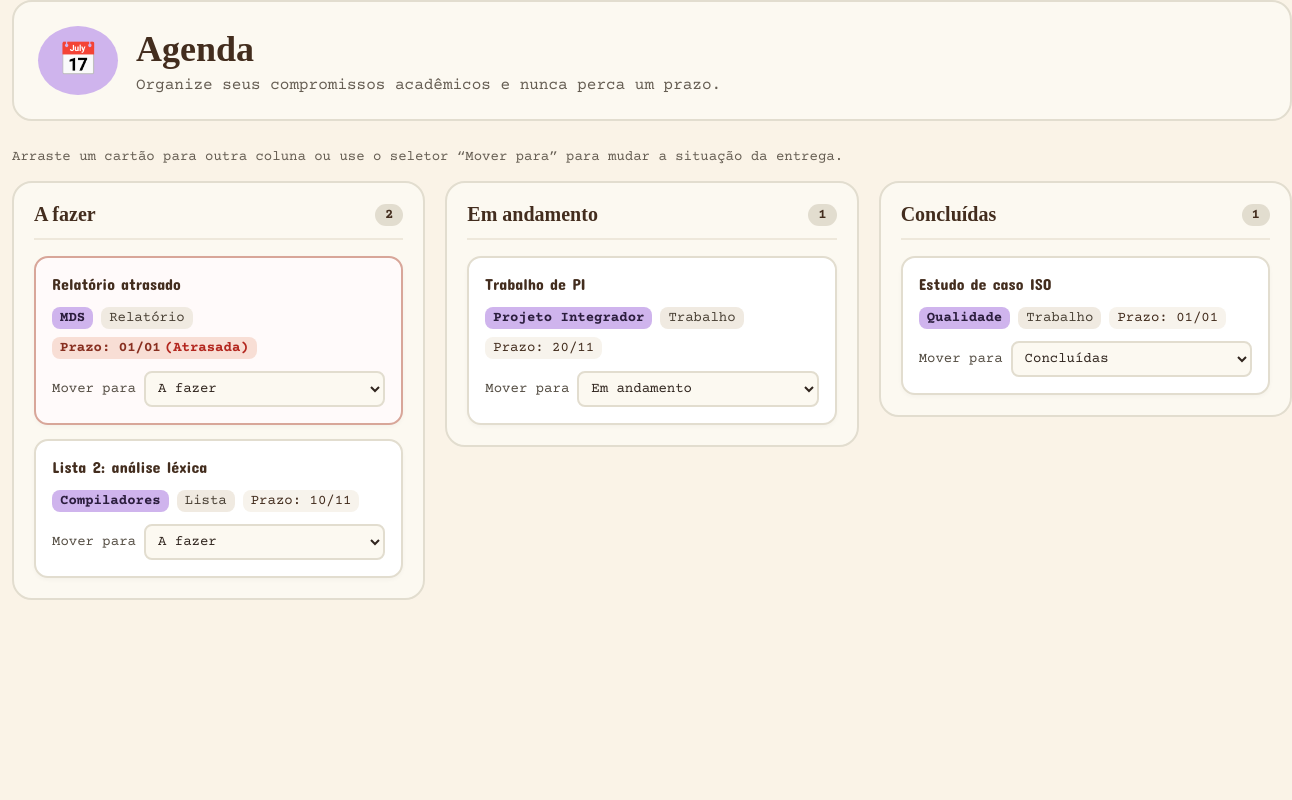
Test: Mover cartão na Agenda (US04a) › muda a situação ao escolher outra coluna no seletor
This screenshot has width=1292, height=800.
Select "Concluídas" in the dropdown named "Mover Lista 2: análise léxica para" at (265, 542), box [144,524,385,560]
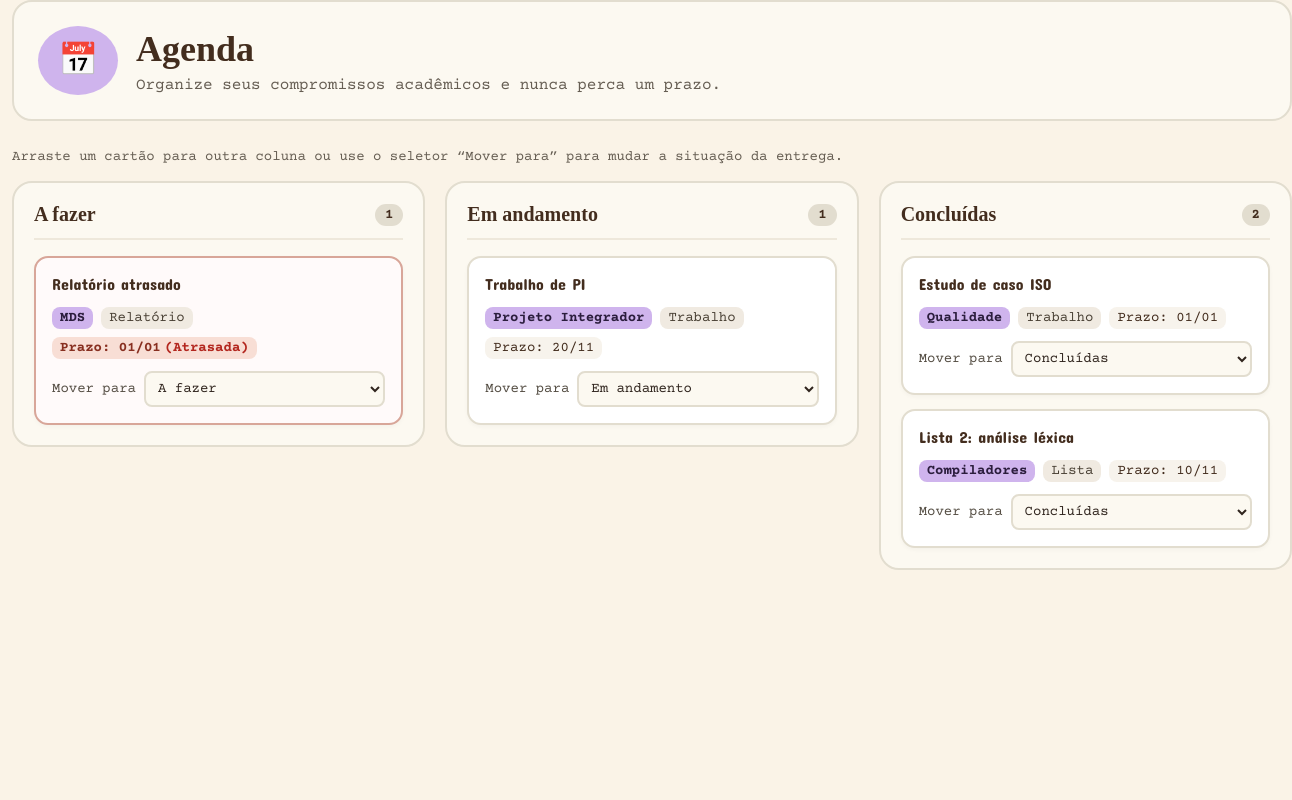
Result: the text named "2 atividades em Concluídas" is shown at [1242,204,1270,226]
Result: the text named "1 atividades em A fazer" is shown at [375,204,403,226]
